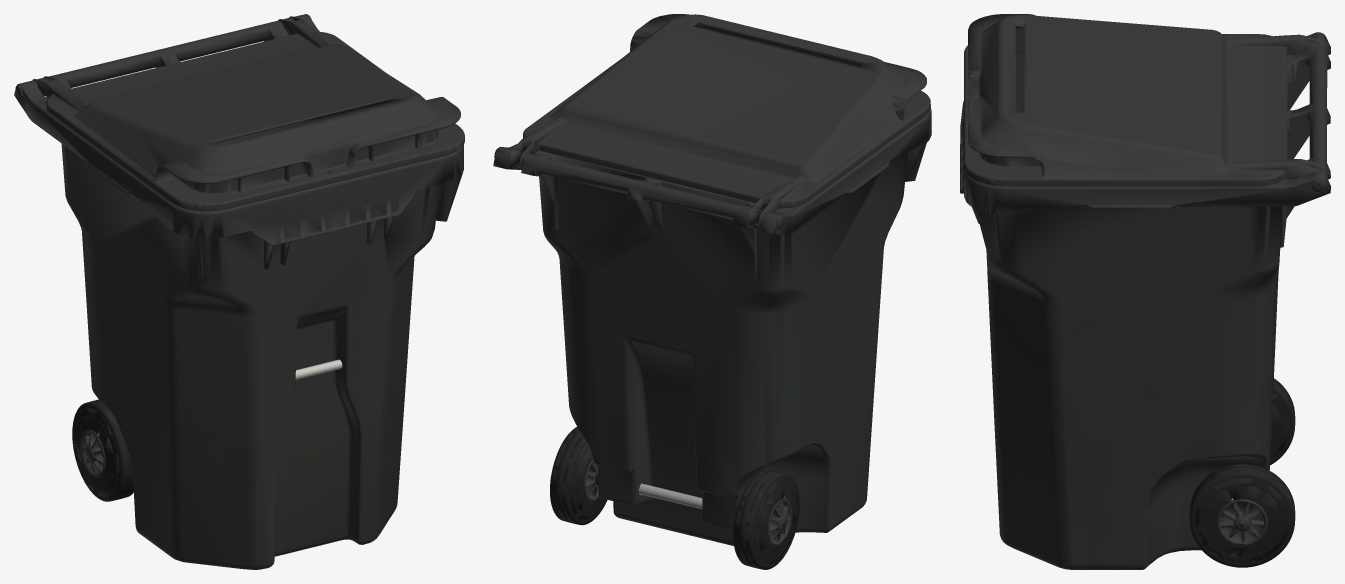
File: trash_wheeled.glb
3 views of the same model, side by side, from view 1: azimuth 30°, elevation 25°; view 2: azimuth 150°, elevation 25°; view 3: azimuth 270°, elevation 25° (orthographic). The views are drawn at different scales.
Parts seen in each view (by area): view 1: body; view 2: body; view 3: body.
Part boxes in pixels (x1=…): body: x1=14, y1=14, x2=464, y2=569; body: x1=493, y1=14, x2=931, y2=569; body: x1=960, y1=14, x2=1330, y2=569.
Size of the model in its own units: 0.8352 by 1.17 by 0.8765.
6 materials, 5 textured.
